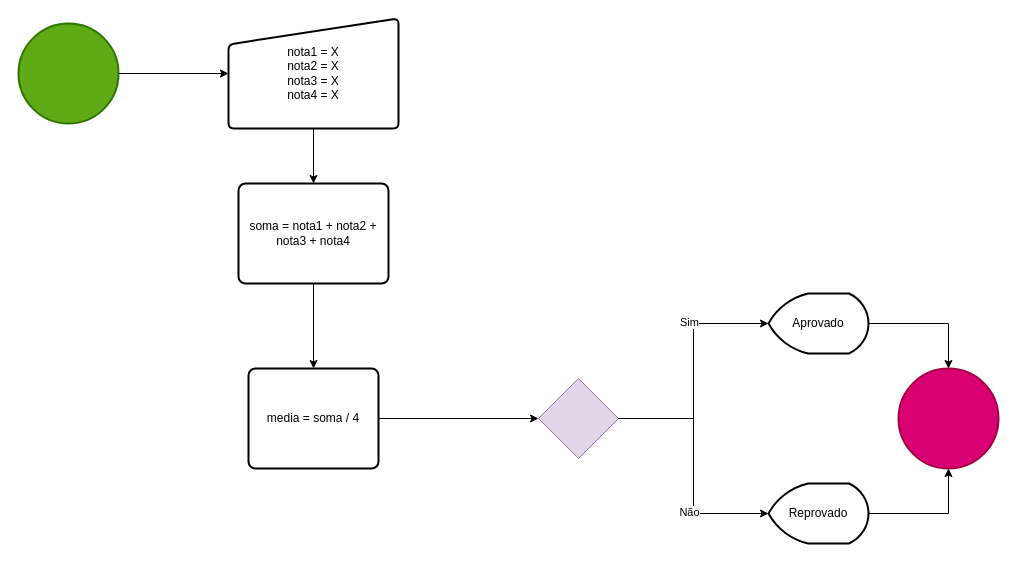
Some shapes in this 1016 by 561 pixel diagram are drawn without their labels. The shapes that lost their labels are listed below. From the top down, each one's centre as x and y in pixels, then its label:
At point 578,418: "media >= 7".
At point 948,418: "FIM".
